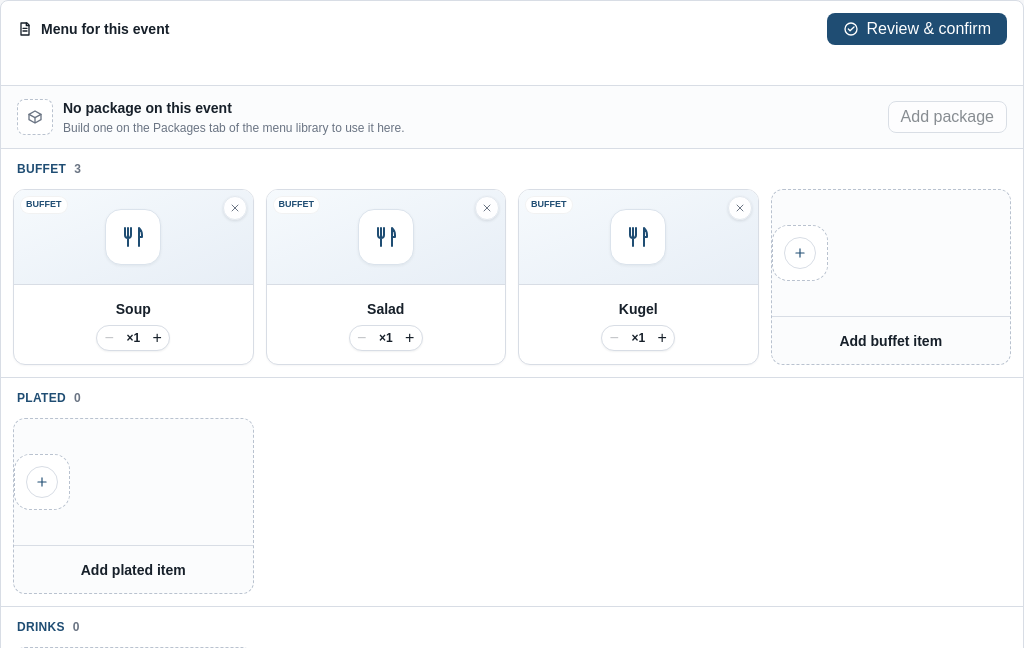
event menu edits made faster than the server answers › offers to undo a removal, and puts the dish back where it was
Click the button named "Remove Soup" at (234,208), box [222,196,246,220]
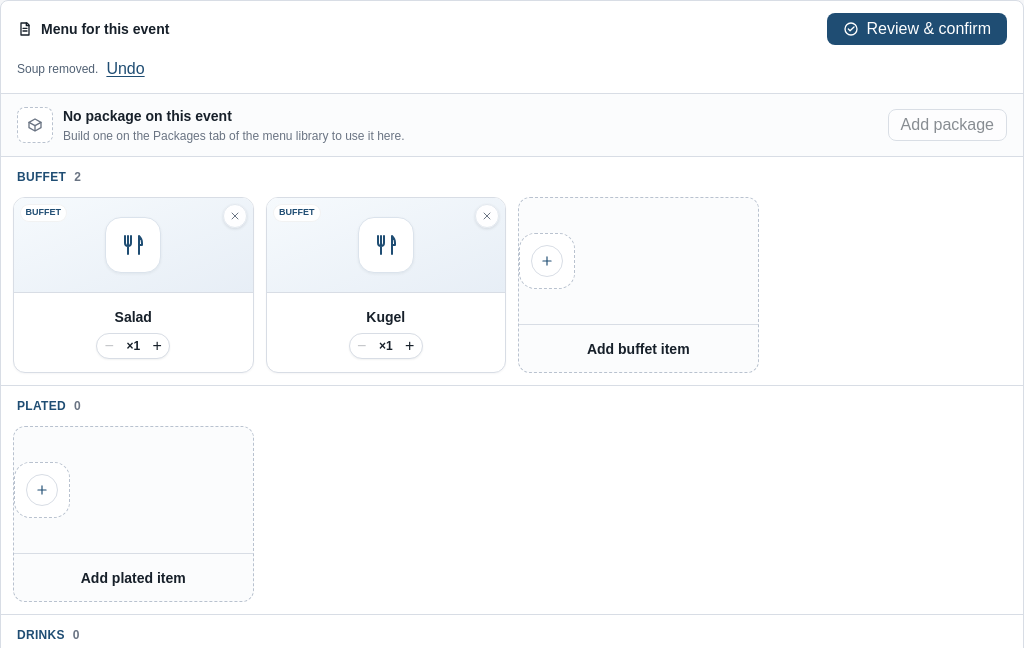
Check: the message shows "Soup removed.", box [17,62,98,76]
Click the button "Undo" at (126,69), box [106,57,145,81]
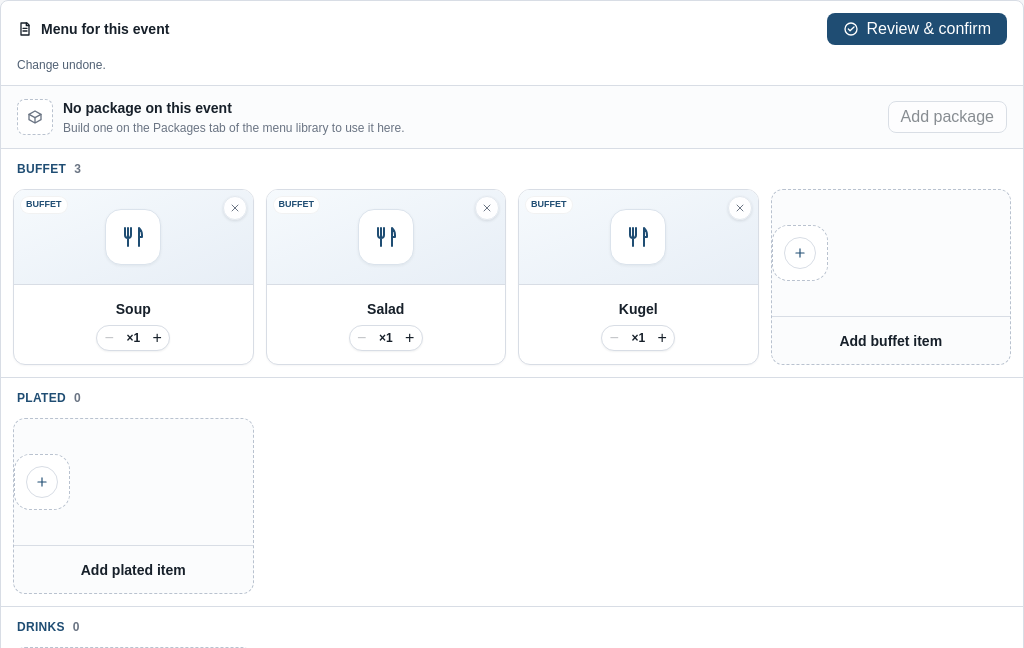
Check: the button named "Remove Soup" is shown, box [222,196,246,220]
